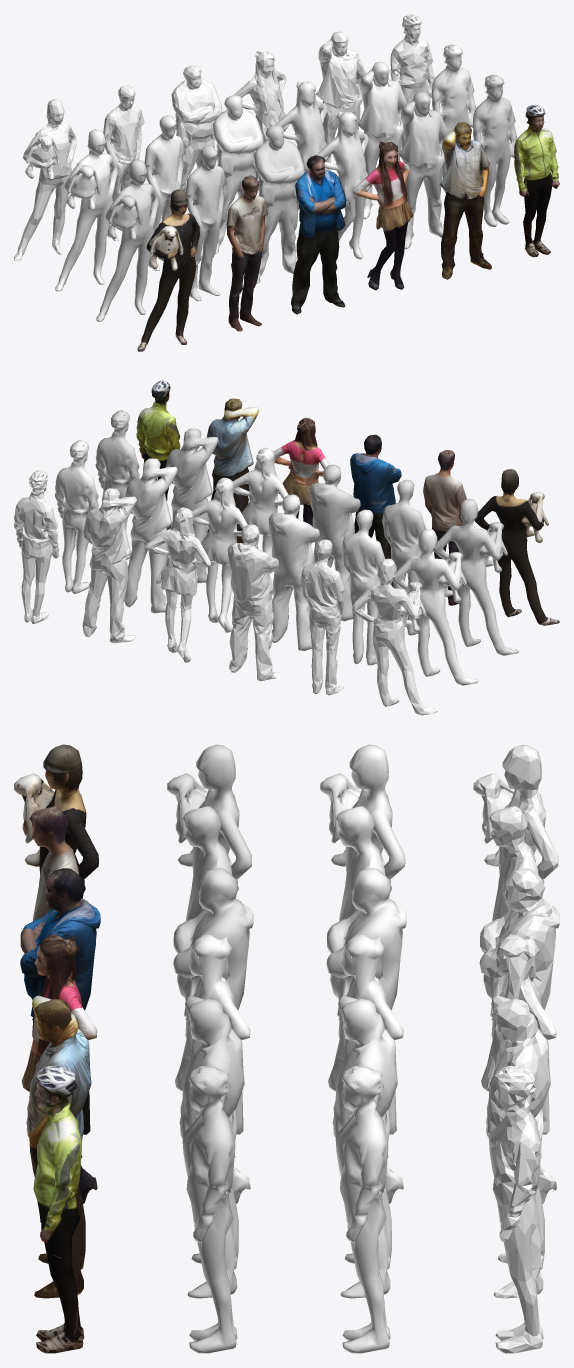
The model's file is gente.glb.
3 views of the same model, one above another, from view 1: azimuth 30°, elevation 25°; view 2: azimuth 150°, elevation 25°; view 3: azimuth 270°, elevation 25° (orthographic). The views are drawn at different scales.
Visible parts, largest first — view 1: 03_person.003, 05_person.003, 01_person.003, 03_person, 01_person.001, 01_person, 01_person.002, 05_person, 06_person.003, 02_person.003, 04_person.003, 06_person (+12 smaller); view 2: 03_person.002, 05_person.002, 01_person.002, 01_person.001, 01_person, 01_person.003, 03_person.001, 05_person.001, 02_person.002, 04_person.002, 06_person.002, 06_person.001 (+12 smaller); view 3: 06_person.001, 06_person, 06_person.002, 06_person.003, 05_person, 05_person.003, 05_person.001, 05_person.002, 03_person.001, 03_person, 03_person.002, 03_person.003 (+12 smaller).
Part boxes in pixels (x1,y1,x2,y2): 03_person.003: (291, 155, 345, 314); 05_person.003: (439, 122, 491, 279); 01_person.003: (137, 189, 199, 351); 03_person: (254, 125, 304, 284); 01_person.001: (55, 129, 117, 291); 01_person: (96, 159, 158, 321); 01_person.002: (14, 99, 76, 261); 05_person: (398, 91, 448, 249); 06_person.003: (514, 104, 559, 257); 02_person.003: (226, 175, 267, 331); 04_person.003: (352, 141, 413, 290); 06_person: (473, 74, 517, 226); 03_person.002: (227, 524, 280, 680); 05_person.002: (82, 488, 136, 643); 01_person.002: (351, 558, 437, 715); 01_person.001: (393, 529, 478, 685); 01_person: (434, 499, 518, 655); 01_person.003: (474, 469, 559, 625); 03_person.001: (268, 494, 319, 650); 05_person.001: (124, 458, 177, 613); 02_person.002: (300, 539, 344, 695); 04_person.002: (145, 507, 210, 662); 06_person.002: (14, 470, 59, 623); 06_person.001: (55, 440, 98, 593); 06_person.001: (340, 1066, 390, 1353); 06_person: (186, 1066, 237, 1353); 06_person.002: (493, 1066, 543, 1353); 06_person.003: (33, 1066, 84, 1353); 05_person: (179, 995, 244, 1298); 05_person.003: (26, 995, 91, 1298); 05_person.001: (332, 995, 397, 1298); 05_person.002: (486, 995, 550, 1298); 03_person.001: (326, 868, 406, 1157); 03_person: (173, 868, 253, 1157); 03_person.002: (479, 868, 559, 1157); 03_person.003: (20, 868, 100, 1157).
Bounding box in the file's own units: 296 × 101 × 178.
13 materials, 6 textured.
